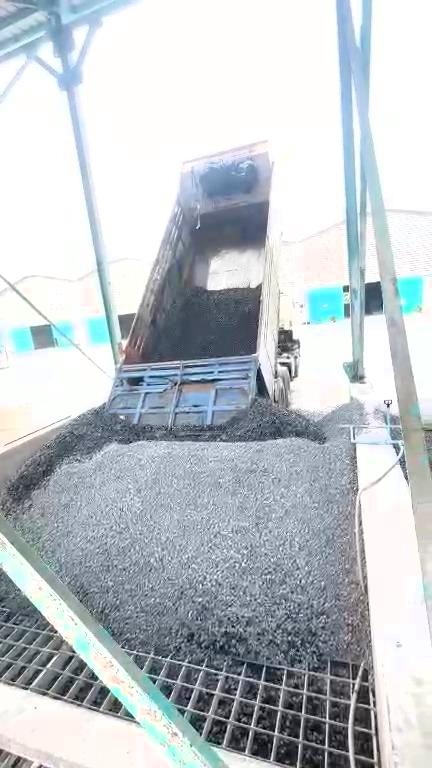gravel: (1, 395, 370, 663), (148, 287, 259, 361), (1, 568, 32, 613)
sand: (1, 394, 49, 445)
